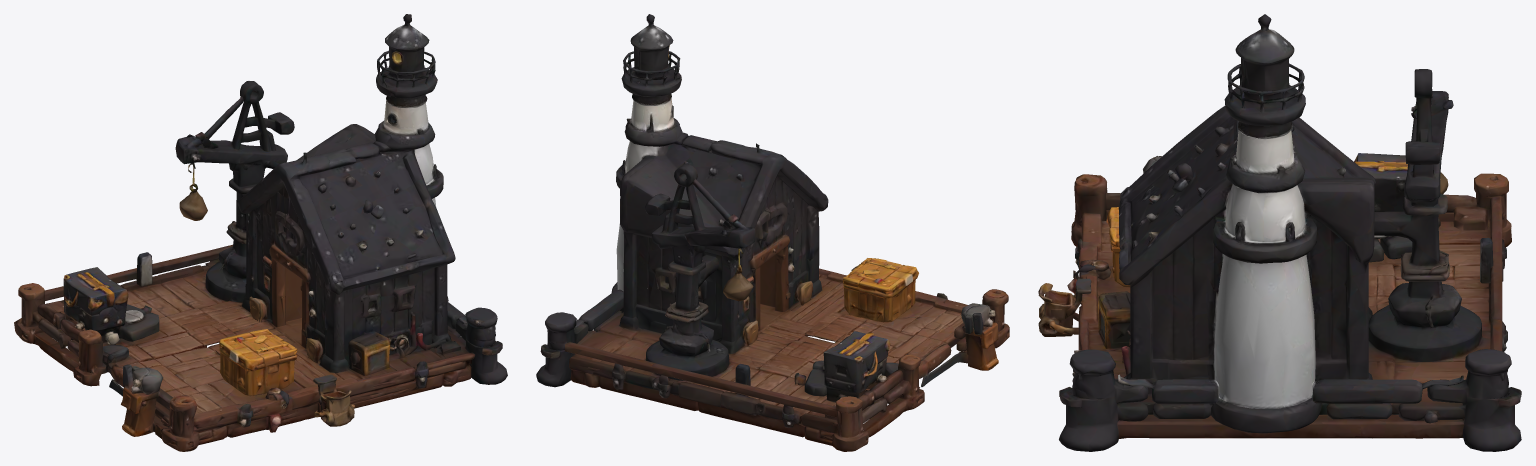
Rendered from puerto.glb.
The picture shows the model from 3 angles, left to right: view 1: azimuth 30°, elevation 25°; view 2: azimuth 150°, elevation 25°; view 3: azimuth 270°, elevation 25°; orthographic projection. The views are drawn at different scales.
Bounding box in the file's own units: 0.9781 × 0.8395 × 0.8765.
Materials: 1 (1 with a texture image).
